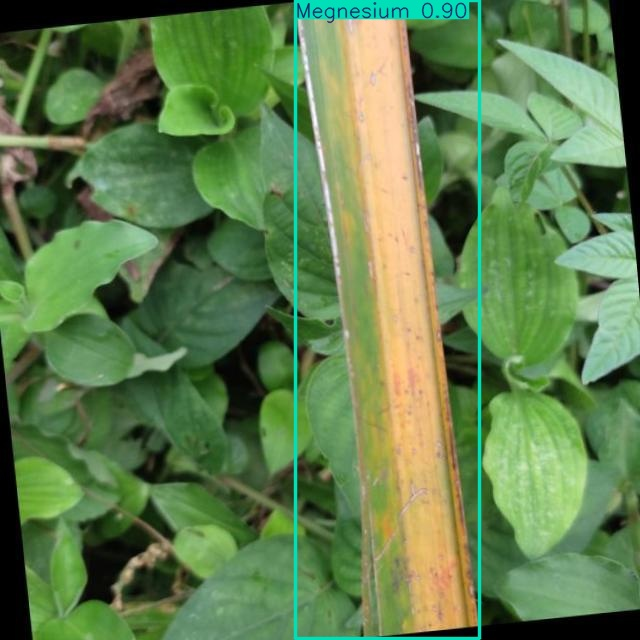Megnesium: (296, 0, 479, 639)
